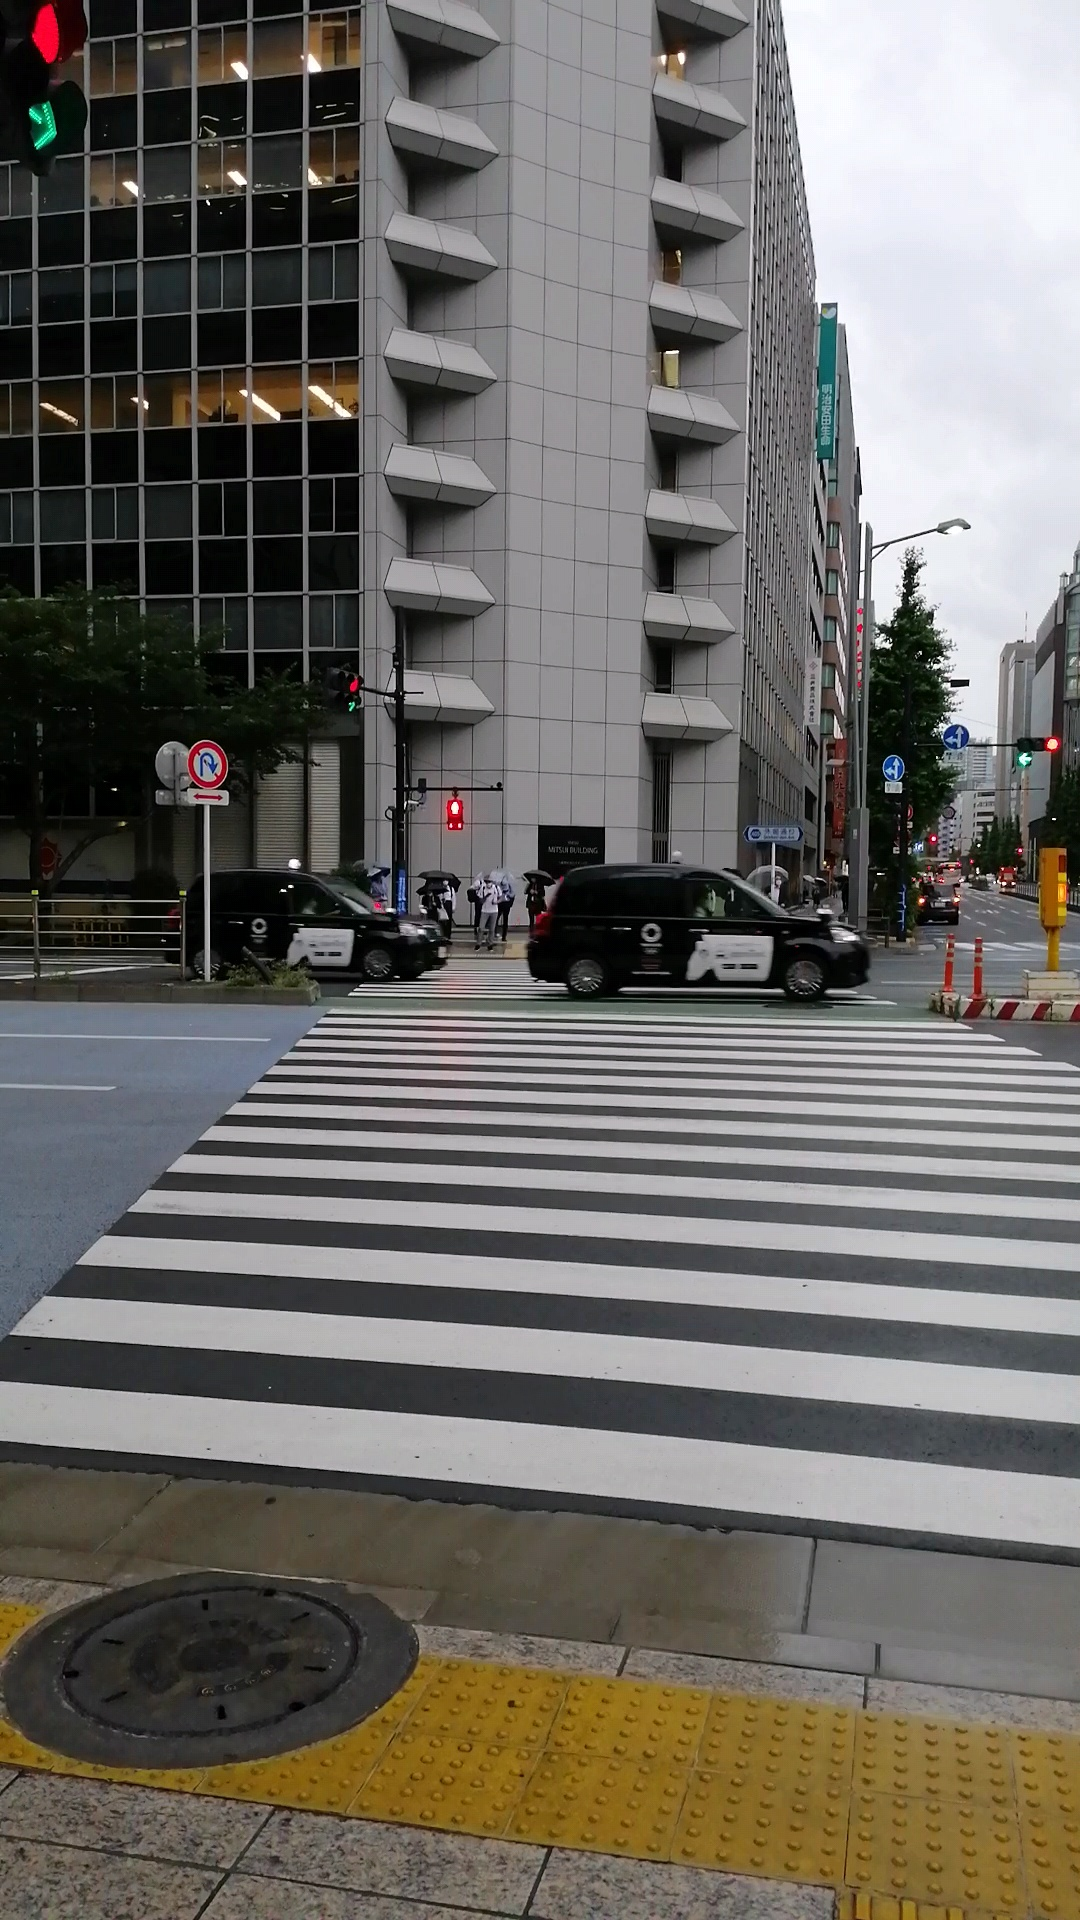red: (444, 798, 464, 831)
